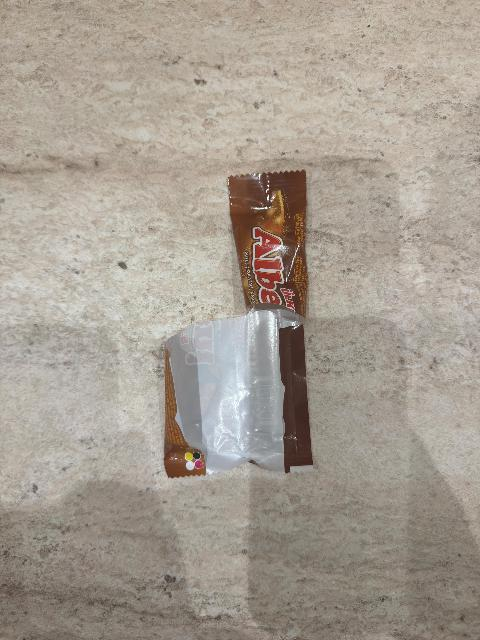Plastik: (157, 149, 333, 496)
